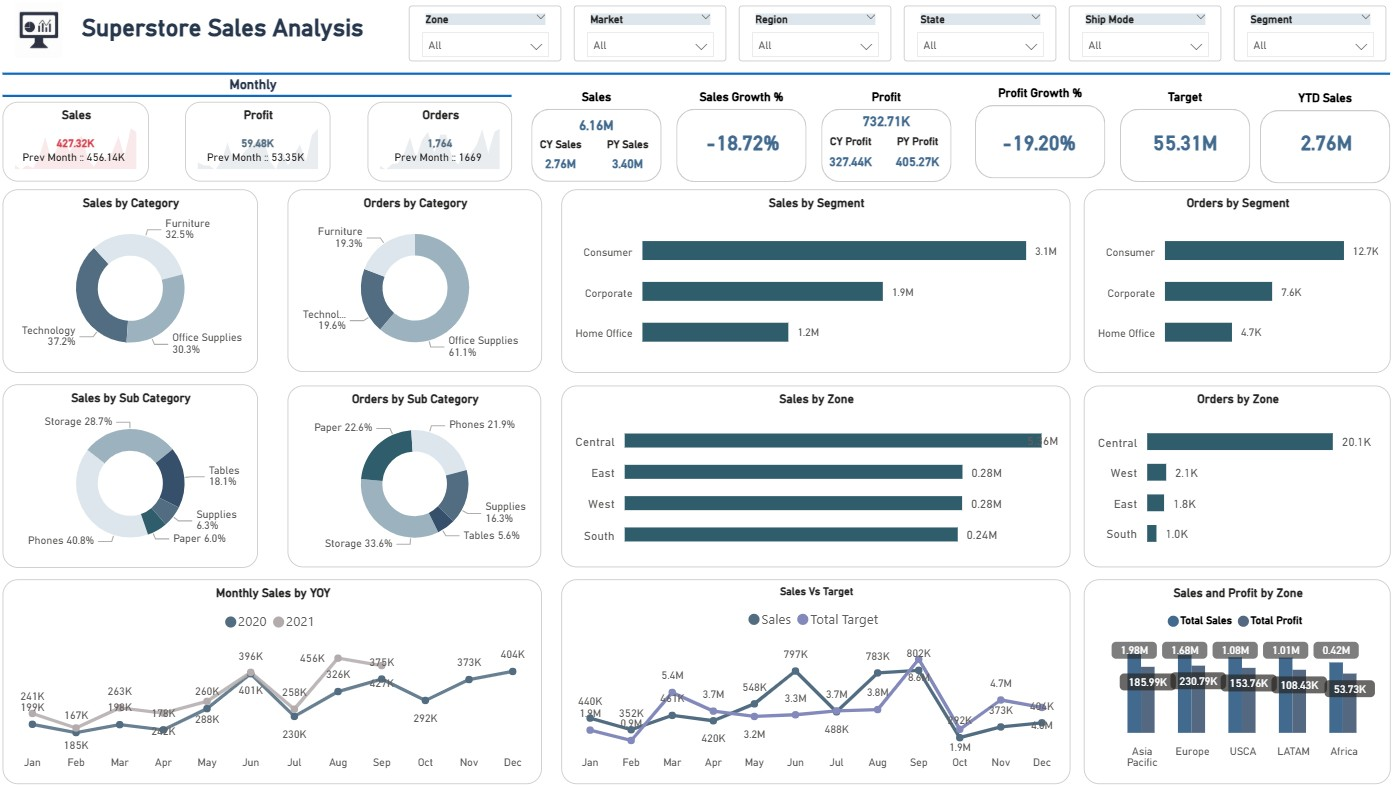

The page's visual inventory and layout, read from the dashboard file:
{"tool":"powerbi","page":{"name":"Summary","canvas":[1280,720],"ordinal":0},"visuals":[{"type":"donutChart","title":"Sales by Category","fields":{"Category":["Orders.Category"],"Y":["Measure.Total Sales"]},"box":[7.2,177.4,230.1,165.4],"z":0},{"type":"clusteredColumnChart","title":"Sales and Profit by Zone","fields":{"Y":["Measure.Total Sales","Measure.Total Profit"],"Category":["Orders.Market"]},"box":[981.6,528.3,276.9,184.6],"z":1000},{"type":"slicer","fields":{"Values":["Orders.Market"]},"box":[521.6,10.8,137.8,50.3],"z":2000},{"type":"donutChart","title":"Sales by Sub Category","fields":{"Category":["Orders.Sub-Category"],"Y":["Measure.Total Sales"]},"box":[7.2,352.4,230.1,165.4],"z":3000},{"type":"slicer","fields":{"Values":["Orders.Ship Mode"]},"box":[968.1,10.8,137.8,50.3],"z":4000},{"type":"slicer","fields":{"Values":["Orders.Segment"]},"box":[1117,10.8,137.8,50.3],"z":5000},{"type":"slicer","fields":{"Values":["Region Mapping.Zone"]},"box":[372.7,10.8,137.8,50.3],"z":6000},{"type":"lineChart","title":"Monthly Sales by YOY ","fields":{"Y":["Measure.Total Sales"],"Series":["Calendar Table.Year"],"Category":["Calendar Table.Month Name"]},"box":[7.2,528.5,486.6,184.6],"z":7000},{"type":"slicer","fields":{"Values":["Orders.State"]},"box":[819.3,10.8,137.8,50.3],"z":8000},{"type":"textbox","box":[73.1,13.2,299.6,49.1],"z":9000},{"type":"kpi","title":"Profit","fields":{"TrendLine":["Calendar Table.Start of Month"],"Indicator":["Measure.Profit"],"Goal":["Measure.Prev Month Profit"]},"box":[171.7,98.3,130.8,72.1],"z":10000},{"type":"kpi","title":"Sales","fields":{"Indicator":["Measure.Total Sales"],"TrendLine":["Calendar Table.Start of Month"],"Goal":["Measure.Prev Month Sales"]},"box":[7.2,98.3,131.8,71.9],"z":11000},{"type":"kpi","title":"Orders","fields":{"TrendLine":["Calendar Table.Start of Month"],"Indicator":["Measure.Total Orders"],"Goal":["Measure.Prev Month Orders"]},"box":[335.6,98.3,130.6,71.9],"z":12000},{"type":"lineChart","title":"Sales Vs Target","fields":{"Category":["Calendar Table.Month Name"],"Y":["Measure.Total Sales"],"Y2":["Measure.Target"]},"box":[510.6,528.5,459,184.6],"z":13000},{"type":"slicer","fields":{"Values":["Orders.Region"]},"box":[670.4,10.8,137.8,50.3],"z":14000},{"type":"shape","box":[7.2,62.3,1251.2,21.6],"z":15000},{"type":"shape","title":"Monthly","box":[7.2,75.5,451.8,22.8],"z":16000},{"type":"shape","box":[7.2,86.3,459,12],"z":17000},{"type":"barChart","title":"Sales by Segment","fields":{"Category":["Orders.Segment"],"Y":["Measure.Total Sales"]},"box":[510.6,177.4,459,165.4],"z":18000},{"type":"clusteredBarChart","title":"Sales by Zone","fields":{"Y":["Measure.Total Sales"],"Category":["Region Mapping.Zone"]},"box":[510.6,353.4,459,164.2],"z":19000},{"type":"clusteredBarChart","title":"Orders by Zone","fields":{"Category":["Region Mapping.Zone"],"Y":["Measure.Total Orders"]},"box":[981.6,353.4,276.9,164.2],"z":20000},{"type":"shape","title":"Sales","box":[483.9,87.1,117.6,83.7],"z":21000},{"type":"card","title":"Sales","fields":{"Values":["Measure.Total Sales"]},"box":[493,98.4,99.5,45.2],"z":22000},{"type":"card","title":"CY Sales","fields":{"Values":["Measure.CY Sales"]},"box":[460.2,131.3,100.6,36.2],"z":23000},{"type":"card","title":"PY Sales","fields":{"Values":["Measure.PY Sales"]},"box":[521.2,131.3,99.5,36.2],"z":24000},{"type":"shape","title":"Profit","box":[745.5,86.3,117.5,83.9],"z":25000},{"type":"card","title":"Sales","fields":{"Values":["Measure.Total Profit"]},"box":[754.3,95.2,99.5,45.2],"z":26000},{"type":"card","title":"CY Profit","fields":{"Values":["Measure.CY Profit"]},"box":[721.5,128.1,100.6,36.2],"z":27000},{"type":"card","title":"PY Profit","fields":{"Values":["Measure.PY Profit"]},"box":[782.6,128.1,99.5,36.2],"z":28000},{"type":"shape","title":"Sales Growth %","box":[614.8,86.3,117.5,83.9],"z":29000},{"type":"card","title":"Sales","fields":{"Values":["Measure.Sales Growth %"]},"box":[624.4,112.7,99.5,45.5],"z":30000},{"type":"shape","title":"Profit Growth %","box":[883.3,83.9,117.5,83.9],"z":31000},{"type":"card","title":"Sales","fields":{"Values":["Measure.Profit Growth %"]},"box":[891.7,112.7,99.5,45.5],"z":32000},{"type":"shape","title":"Target","box":[1013.9,86.3,117.5,83.9],"z":33000},{"type":"shape","title":"YTD Sales","box":[1141,87.5,117.5,83.9],"z":34000},{"type":"card","title":"Sales","fields":{"Values":["Measure.Total Target"]},"box":[1023.5,112.7,99.5,45.5],"z":35000},{"type":"card","title":"Sales","fields":{"Values":["Measure.Ytd Sales"]},"box":[1150.6,112.7,99.5,45.5],"z":36000},{"type":"donutChart","title":"Orders by Category","fields":{"Category":["Orders.Category"],"Y":["Measure.Total Orders"]},"box":[263.4,177.5,229.5,165.1],"z":37000},{"type":"donutChart","title":"Orders by Sub Category","fields":{"Category":["Orders.Sub-Category"],"Y":["Measure.Total Orders"]},"box":[263.7,353.4,228.9,164.2],"z":38000},{"type":"barChart","title":"Orders by Segment","fields":{"Category":["Orders.Segment"],"Y":["Measure.Total Orders"]},"box":[981.6,177.4,276.9,165.4],"z":39000},{"type":"image","box":[7.2,3.6,65.9,59.9],"z":40000}]}

Visuals, with their boxes in screenshot pixels (x1, y1, x2, y2), scaled from the page's 1280x720 canvas onto the 1397x785 screenshot:
"Sales by Category" donutChart: x1=8 y1=193 x2=259 y2=374
"Sales and Profit by Zone" clusteredColumnChart: x1=1071 y1=576 x2=1374 y2=777
slicer - Orders.Market: x1=569 y1=12 x2=720 y2=67
"Sales by Sub Category" donutChart: x1=8 y1=384 x2=259 y2=565
slicer - Orders.Ship Mode: x1=1057 y1=12 x2=1207 y2=67
slicer - Orders.Segment: x1=1219 y1=12 x2=1369 y2=67
slicer - Region Mapping.Zone: x1=407 y1=12 x2=557 y2=67
"Monthly Sales by YOY " lineChart: x1=8 y1=576 x2=539 y2=777
slicer - Orders.State: x1=894 y1=12 x2=1045 y2=67
textbox: x1=80 y1=14 x2=407 y2=68
"Profit" kpi: x1=187 y1=107 x2=330 y2=186
"Sales" kpi: x1=8 y1=107 x2=152 y2=186
"Orders" kpi: x1=366 y1=107 x2=509 y2=186
"Sales Vs Target" lineChart: x1=557 y1=576 x2=1058 y2=777
slicer - Orders.Region: x1=732 y1=12 x2=882 y2=67
shape: x1=8 y1=68 x2=1373 y2=91
"Monthly" shape: x1=8 y1=82 x2=501 y2=107
shape: x1=8 y1=94 x2=509 y2=107
"Sales by Segment" barChart: x1=557 y1=193 x2=1058 y2=374
"Sales by Zone" clusteredBarChart: x1=557 y1=385 x2=1058 y2=564
"Orders by Zone" clusteredBarChart: x1=1071 y1=385 x2=1374 y2=564
"Sales" shape: x1=528 y1=95 x2=656 y2=186
"Sales" card: x1=538 y1=107 x2=647 y2=157
"CY Sales" card: x1=502 y1=143 x2=612 y2=183
"PY Sales" card: x1=569 y1=143 x2=677 y2=183
"Profit" shape: x1=814 y1=94 x2=942 y2=186
"Sales" card: x1=823 y1=104 x2=932 y2=153
"CY Profit" card: x1=787 y1=140 x2=897 y2=179
"PY Profit" card: x1=854 y1=140 x2=963 y2=179
"Sales Growth %" shape: x1=671 y1=94 x2=799 y2=186
"Sales" card: x1=681 y1=123 x2=790 y2=172
"Profit Growth %" shape: x1=964 y1=91 x2=1092 y2=183
"Sales" card: x1=973 y1=123 x2=1082 y2=172
"Target" shape: x1=1107 y1=94 x2=1235 y2=186
"YTD Sales" shape: x1=1245 y1=95 x2=1374 y2=187
"Sales" card: x1=1117 y1=123 x2=1226 y2=172
"Sales" card: x1=1256 y1=123 x2=1364 y2=172
"Orders by Category" donutChart: x1=287 y1=194 x2=538 y2=374
"Orders by Sub Category" donutChart: x1=288 y1=385 x2=538 y2=564
"Orders by Segment" barChart: x1=1071 y1=193 x2=1374 y2=374
image: x1=8 y1=4 x2=80 y2=69
